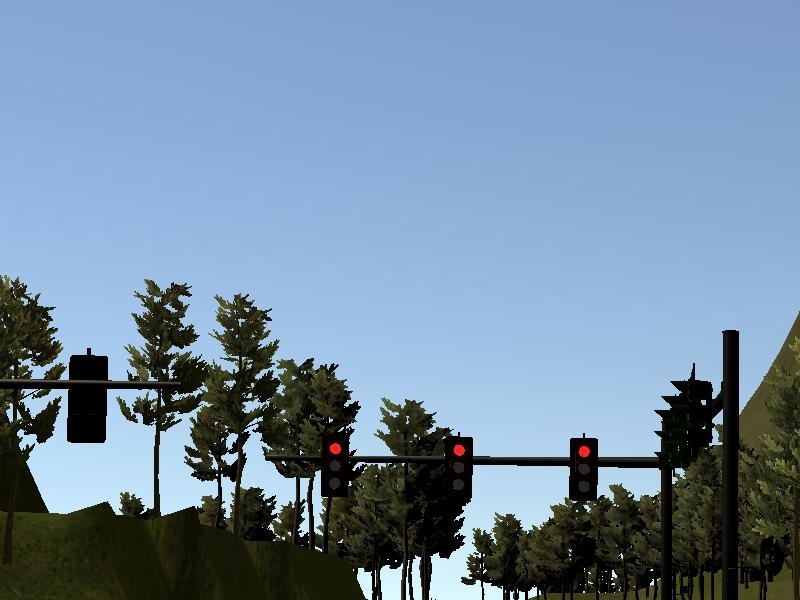red: (442, 432, 476, 508), (567, 433, 601, 505), (320, 429, 352, 501)
